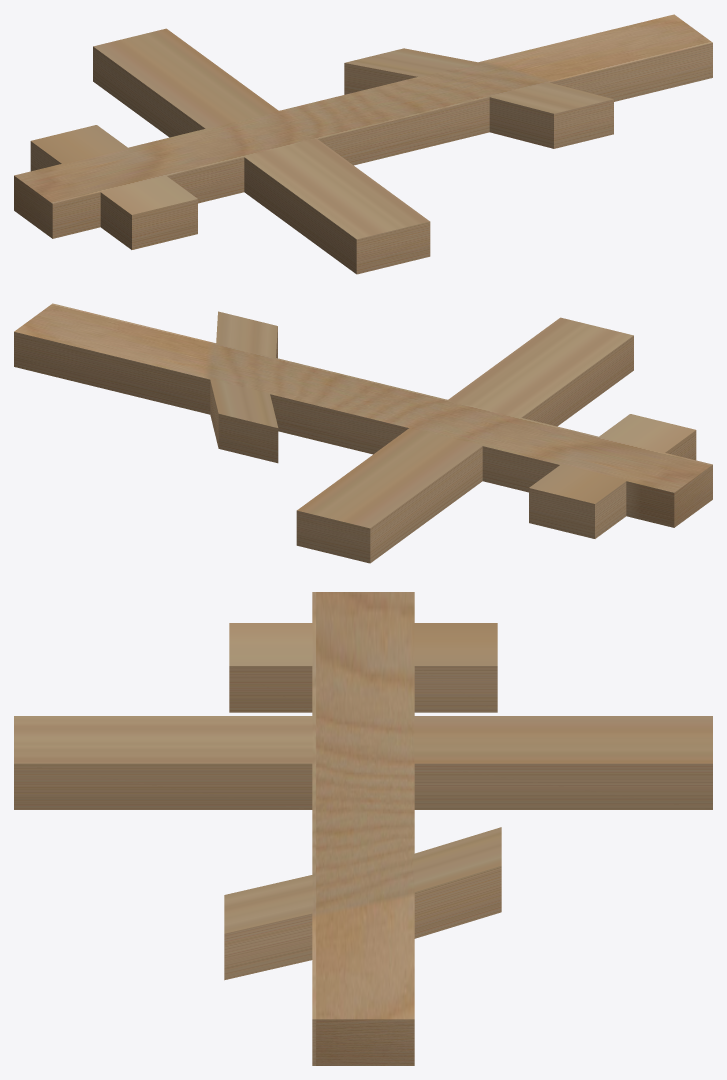
The model's file is cross.glb.
The picture shows the model from 3 angles, top to bottom: view 1: azimuth 30°, elevation 25°; view 2: azimuth 150°, elevation 25°; view 3: azimuth 270°, elevation 25°; orthographic projection. The views are drawn at different scales.
Parts seen in each view (by area): view 1: woodcross; view 2: woodcross; view 3: woodcross.
Part boxes in pixels (left/top/right/bottom): woodcross: left=14, top=14, right=712, bottom=274; woodcross: left=14, top=303, right=712, bottom=563; woodcross: left=14, top=592, right=712, bottom=1065.
Size of the model in its own units: 19.7 by 1 by 13.63.
1 material, 1 textured.
